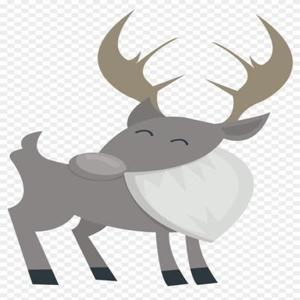sven: (8, 19, 293, 292)
